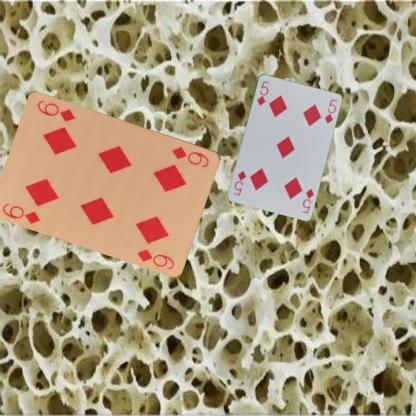5d: (254, 78, 271, 107), (299, 186, 315, 214)
6d: (169, 144, 211, 169), (0, 200, 42, 225)
